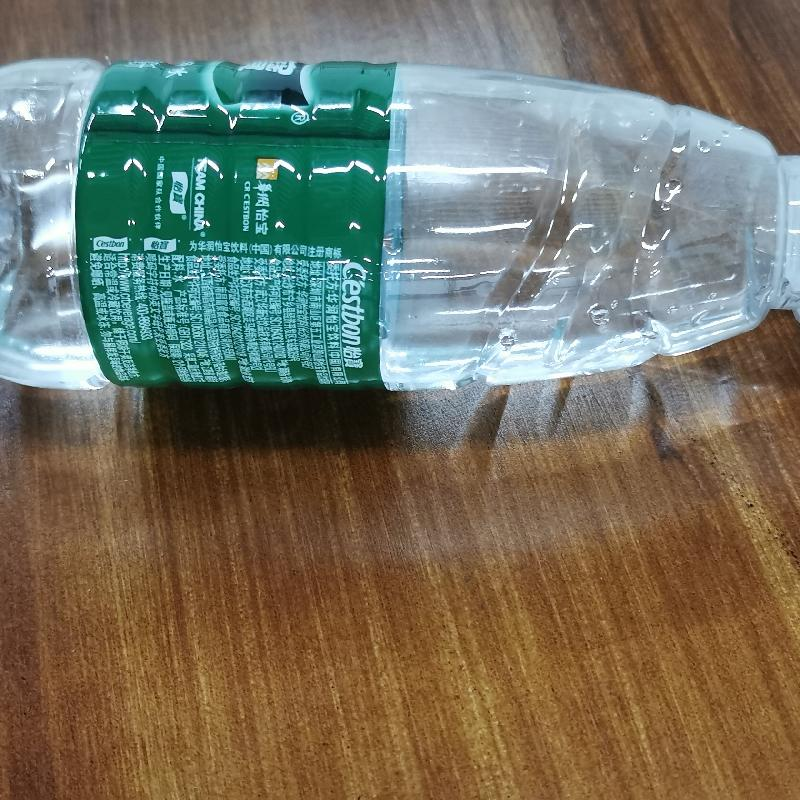bottles: (4, 53, 799, 404)
